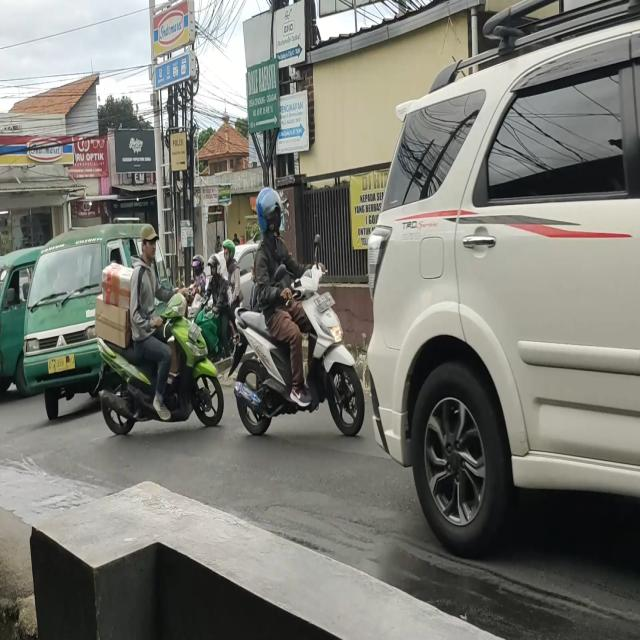helmet: (256, 182, 282, 239), (209, 252, 225, 279), (223, 240, 236, 266), (194, 254, 204, 274)
no-helmet: (141, 225, 161, 268)
